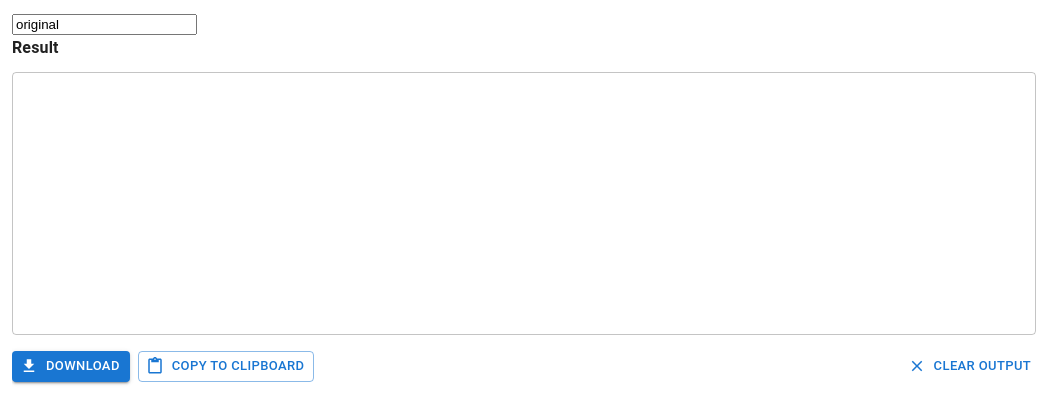
Scenario: tool outputs › clears text output without changing the input
The image size is (1048, 402).
Click the button "Clear output". click: [970, 366]
box: 905,351 -> 1036,382
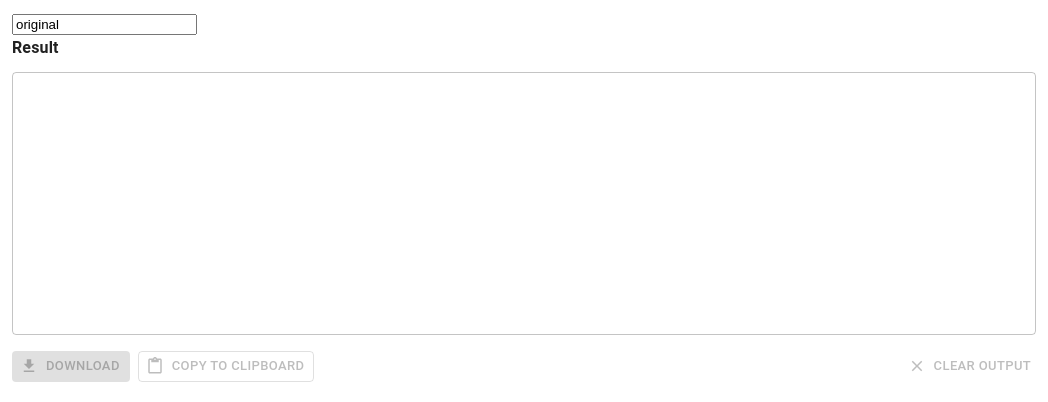
Expected: the button "Download" is disabled, 12,351 -> 130,382
Expected: the button "Copy to clipboard" is disabled, 138,351 -> 314,382
Expected: the button "Clear output" is disabled, 905,351 -> 1036,382
